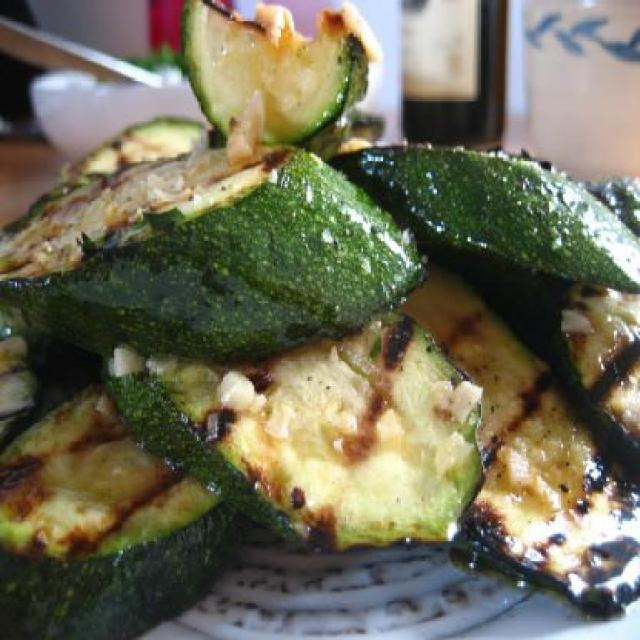Zucchini: (48, 56, 622, 600)
